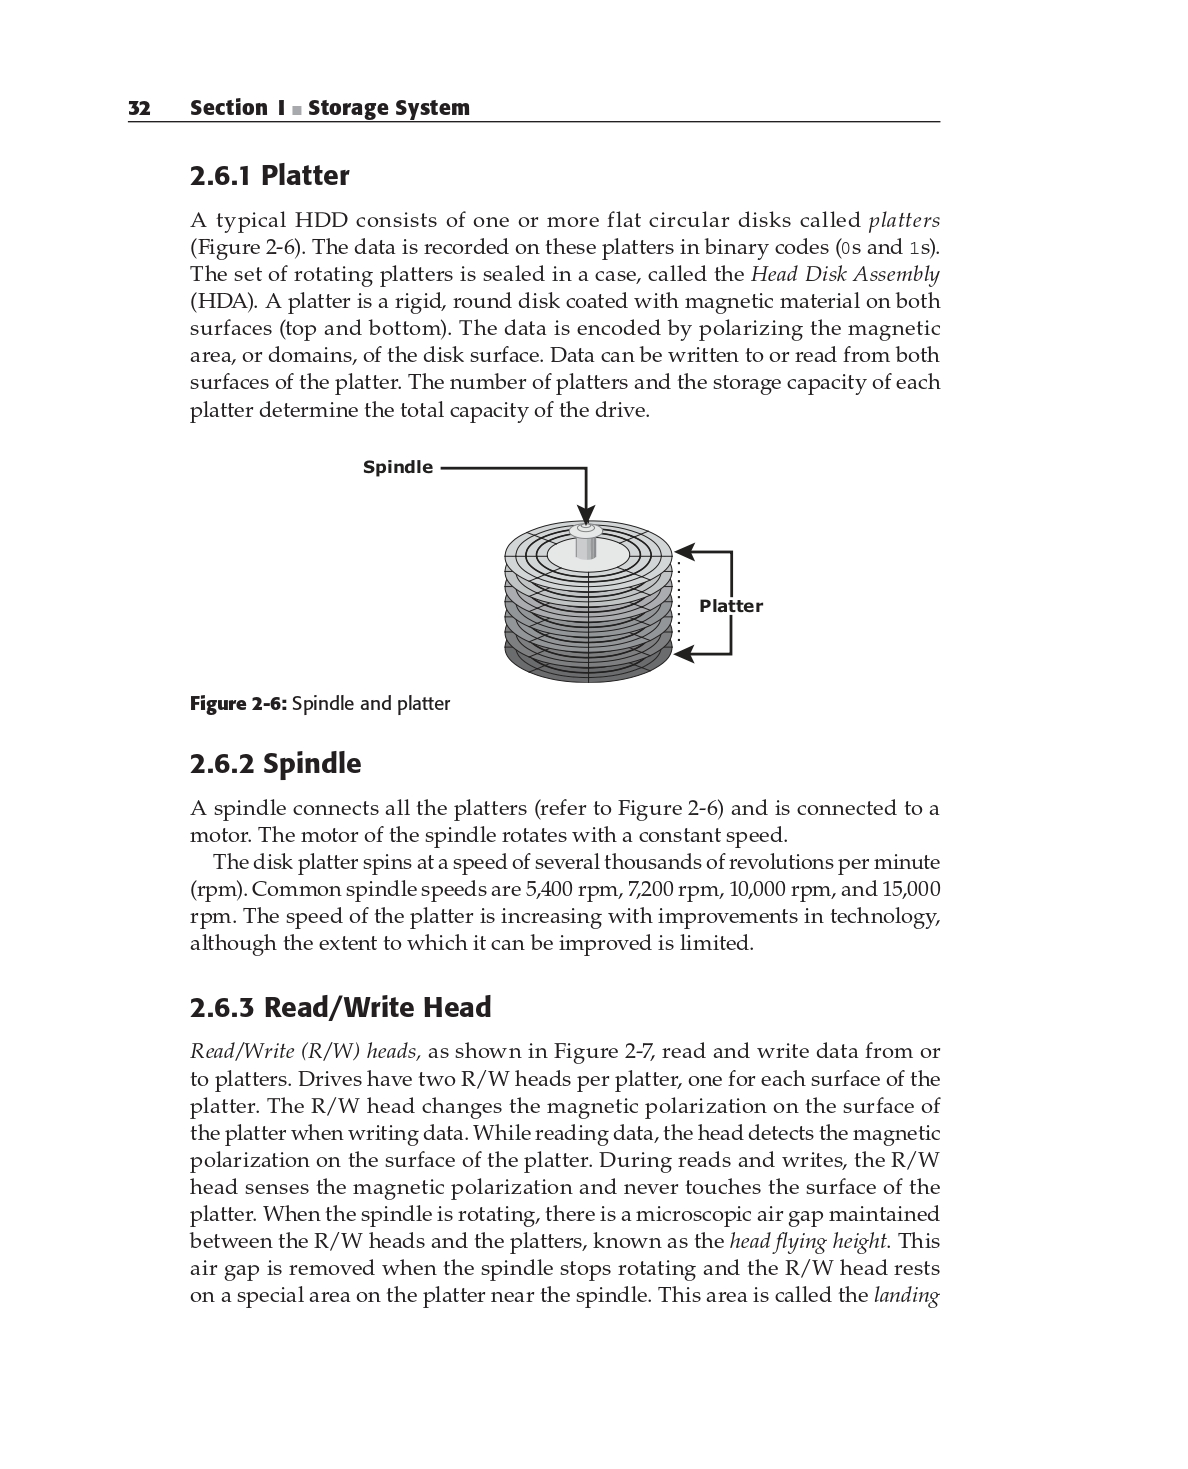Image: (354, 447, 779, 686)
Paragraph: (176, 1036, 958, 1324), (172, 207, 958, 429), (190, 853, 958, 958), (178, 791, 947, 841), (181, 978, 508, 1034), (184, 690, 470, 725), (114, 97, 508, 122), (176, 739, 377, 777), (178, 152, 359, 190)
